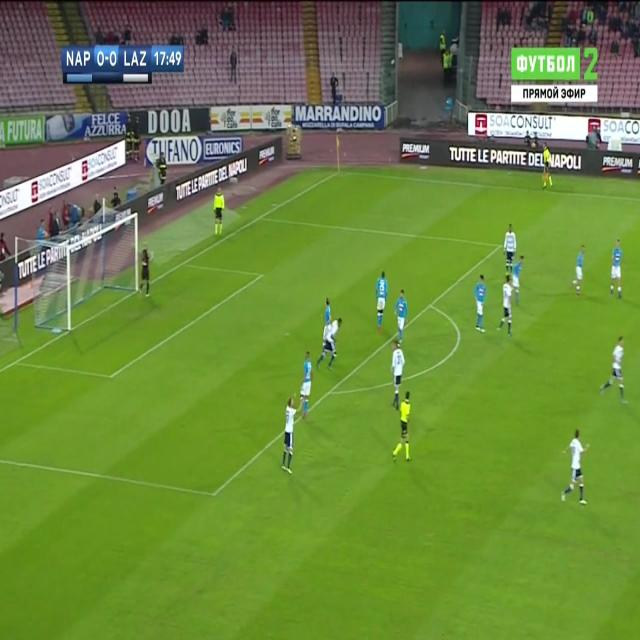Goalkeeper: (137, 239, 154, 303)
Player: (559, 428, 593, 508), (598, 333, 630, 409), (281, 393, 299, 476), (317, 317, 344, 368), (496, 272, 513, 341), (391, 336, 406, 409), (299, 347, 313, 421), (473, 272, 489, 336), (609, 238, 625, 302), (572, 242, 588, 298), (511, 252, 526, 310), (376, 268, 389, 333), (396, 287, 409, 342), (504, 221, 516, 268), (322, 293, 334, 327)
Referee: (389, 387, 413, 466), (210, 182, 226, 242), (540, 140, 555, 191)
